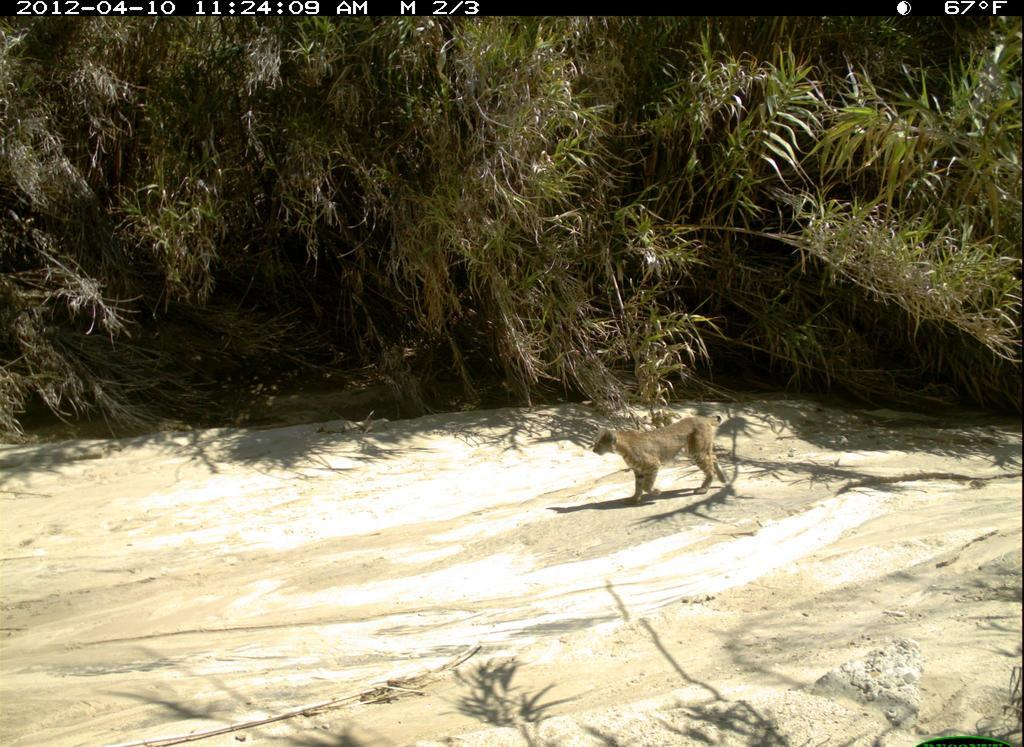bobcat: (588, 405, 739, 505)
